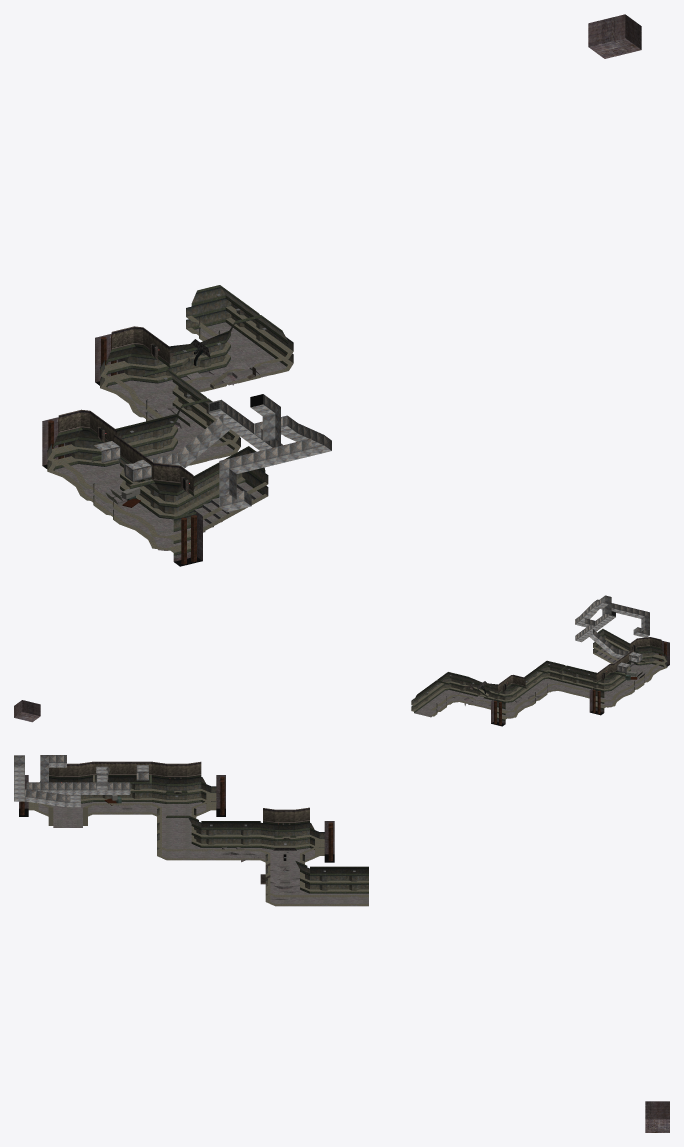
Rendered from ba_yard3b.gltf.
The picture shows the model from 3 angles, top to bottom: view 1: azimuth 30°, elevation 25°; view 2: azimuth 150°, elevation 25°; view 3: azimuth 270°, elevation 25°; orthographic projection. The views are drawn at different scales.
Parts seen in each view (by area): view 1: maps/ba_yard3b.bsp; view 2: maps/ba_yard3b.bsp; view 3: maps/ba_yard3b.bsp.
Boxes of the visible parts, x1,y1,x2,y2 form: maps/ba_yard3b.bsp: (42,14,641,566); maps/ba_yard3b.bsp: (14,595,669,726); maps/ba_yard3b.bsp: (14,755,669,1132).
Size of the model in its own units: 125 by 16.7 by 106.
Materials: 26 (26 with a texture image).
